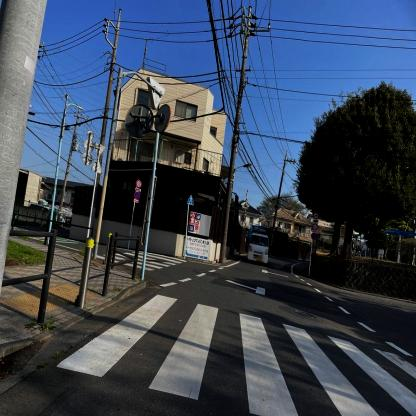Someiyoshino: (253, 192, 310, 220)
